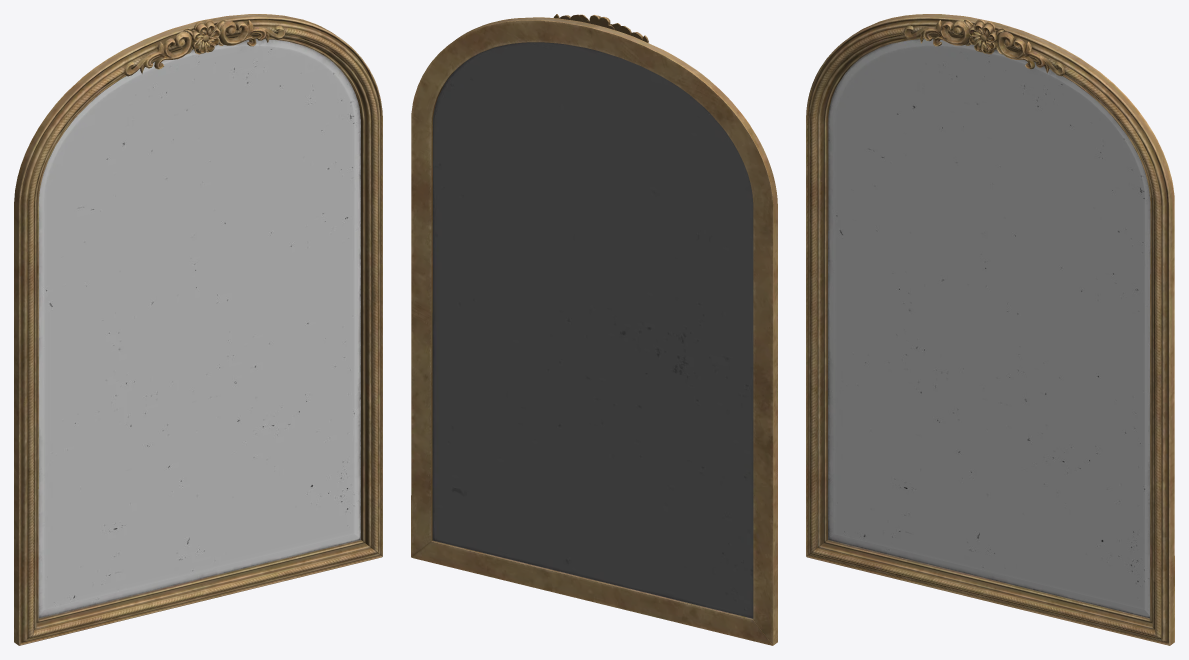
The model's file is ornate_mirror.glb.
3 views of the same model, side by side, from view 1: azimuth 30°, elevation 25°; view 2: azimuth 150°, elevation 25°; view 3: azimuth 330°, elevation 25° (orthographic).
Visible parts, largest first — view 1: ornate_mirror_01; view 2: ornate_mirror_01; view 3: ornate_mirror_01.
Part boxes in pixels (x1,y1,x2,y2): ornate_mirror_01: [14, 14, 382, 645]; ornate_mirror_01: [411, 14, 777, 645]; ornate_mirror_01: [806, 14, 1174, 645].
Size of the model in its own units: 0.4865 by 0.7442 by 0.026.
1 material, 1 textured.
